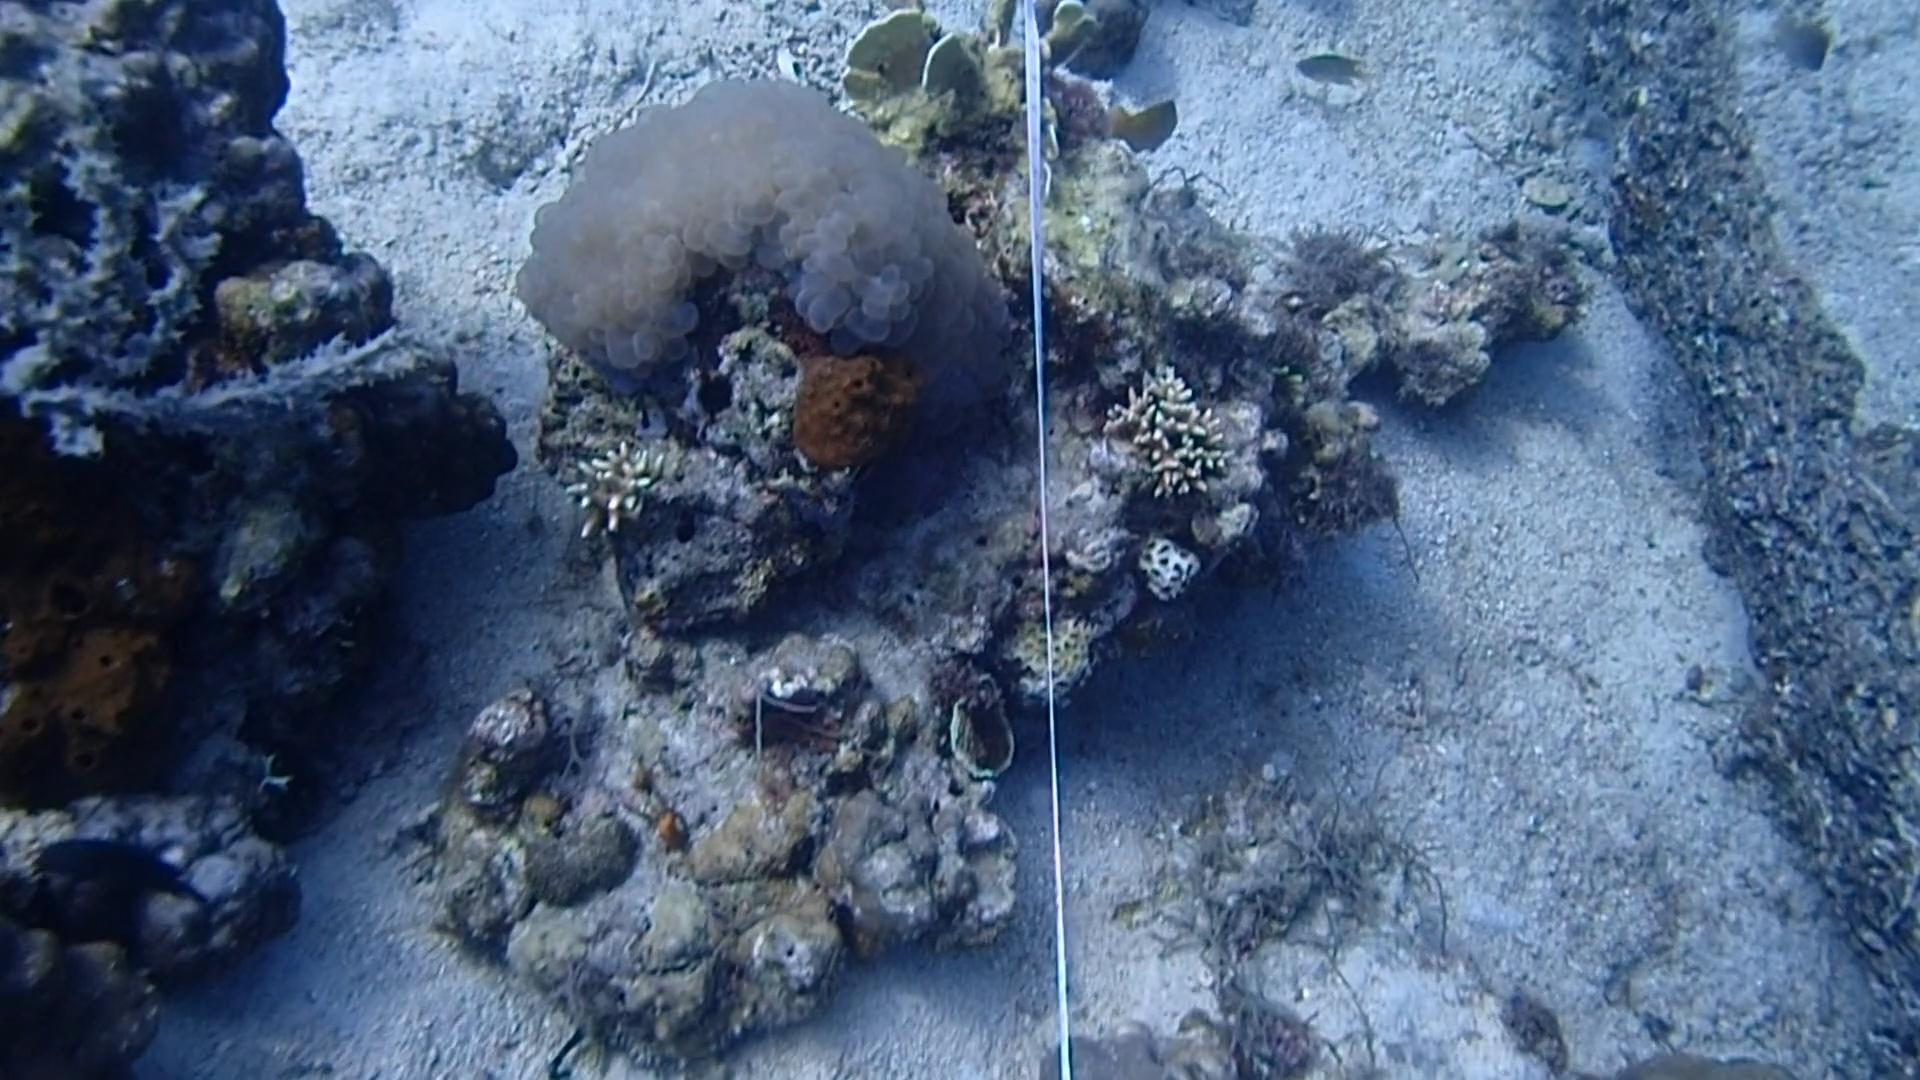Big Dark Blue Fish: (32, 823, 214, 919)
Light Fish: (1288, 45, 1383, 102), (1770, 8, 1837, 75)
Yellow-Blue Fish: (1095, 98, 1188, 165)
